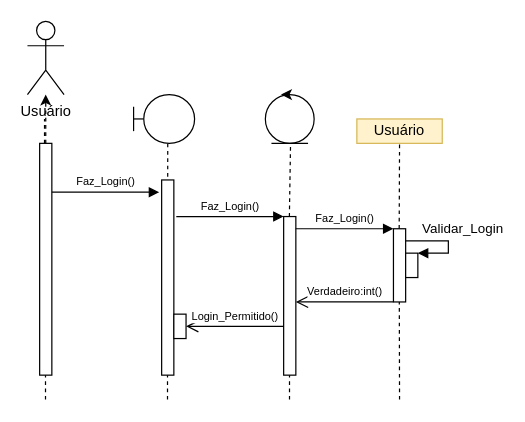
Image size: 525x422. Some labels were removed from this diagram. Here are the shapes that lost their labels. From the top down, the box of each, then its label:
(132, 93, 195, 143): :view
(264, 93, 314, 143): :controler
